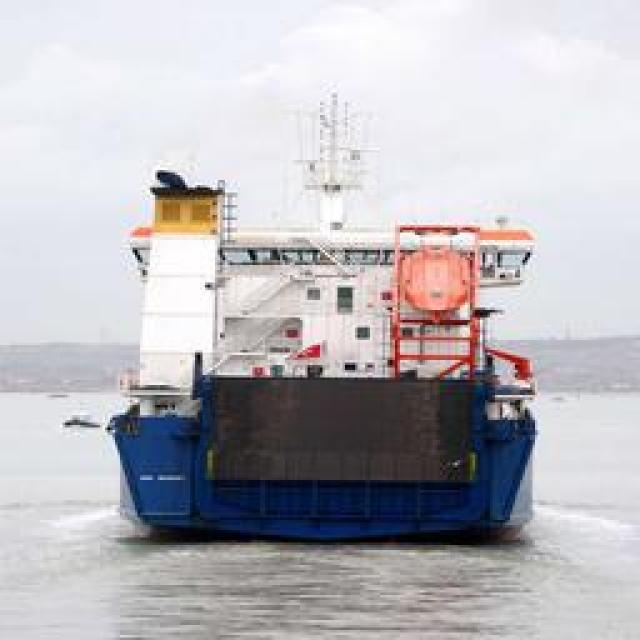CIV_Ship: (100, 225, 545, 553)
